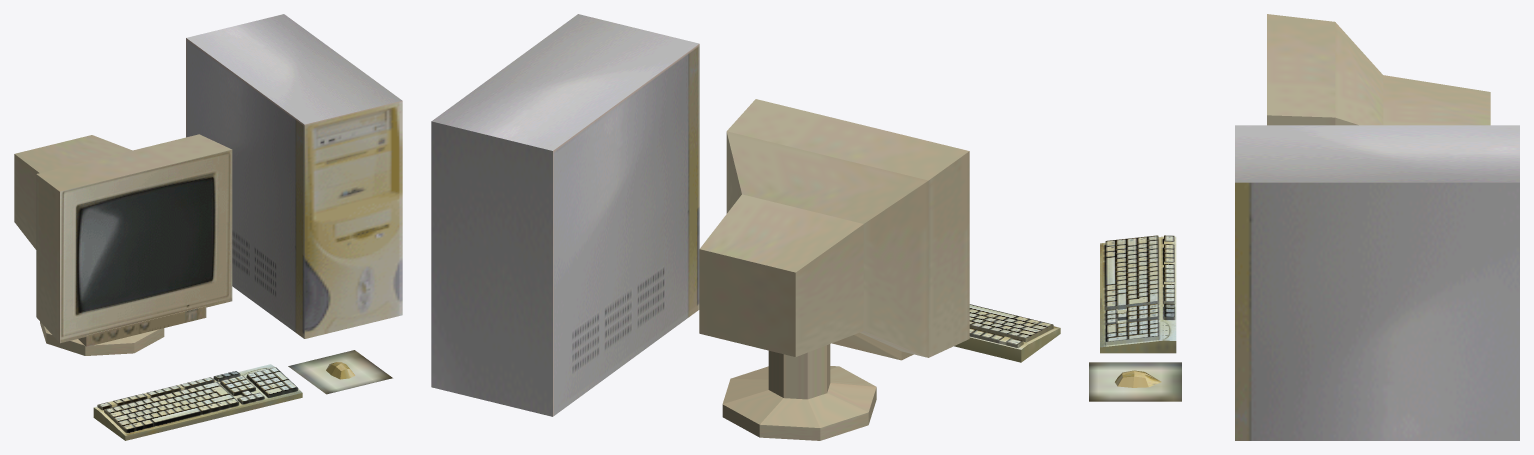
The picture shows the model from 3 angles, left to right: view 1: azimuth 30°, elevation 25°; view 2: azimuth 150°, elevation 25°; view 3: azimuth 270°, elevation 25°; orthographic projection. The views are drawn at different scales.
Visible parts, largest first — view 1: System unit, Monitor, keyboard, palace; view 2: System unit, Monitor, keyboard; view 3: System unit, Monitor, keyboard, palace, mouse.
Boxes of the visible parts, x1,y1,x2,y2 form: System unit: (186, 14, 402, 338); Monitor: (14, 134, 232, 355); keyboard: (93, 364, 302, 440); palace: (288, 350, 392, 394); System unit: (431, 14, 699, 416); Monitor: (699, 99, 969, 440); keyboard: (954, 304, 1060, 362); System unit: (1235, 125, 1519, 440); Monitor: (1267, 14, 1490, 125); keyboard: (1100, 235, 1176, 353); palace: (1089, 362, 1181, 401); mouse: (1115, 370, 1161, 387).
Bounding box in the file's own units: 129 × 80.4 × 120.
Materials: 7 (7 with a texture image).
